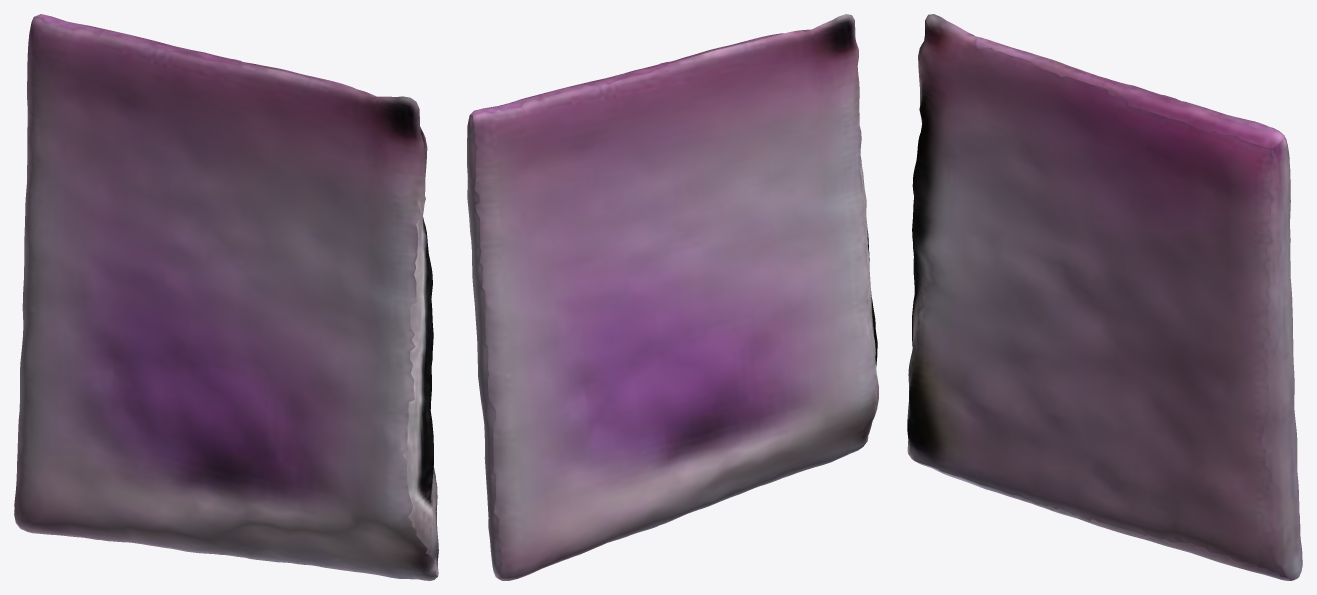
File: 7_refrigerator.glb
3 views of the same model, side by side, from view 1: azimuth 90°, elevation 25°; view 2: azimuth 150°, elevation 25°; view 3: azimuth 270°, elevation 25° (orthographic). The views are drawn at different scales.
Visible parts, largest first — view 1: 7_refrigerator; view 2: 7_refrigerator; view 3: 7_refrigerator.
Part boxes in pixels (<box>): 7_refrigerator: <box>14,14,438,580</box>; 7_refrigerator: <box>467,14,878,580</box>; 7_refrigerator: <box>907,14,1302,580</box>.
Bounding box in the file's own units: 1.89 × 3.59 × 2.66.
1 material, 1 textured.
